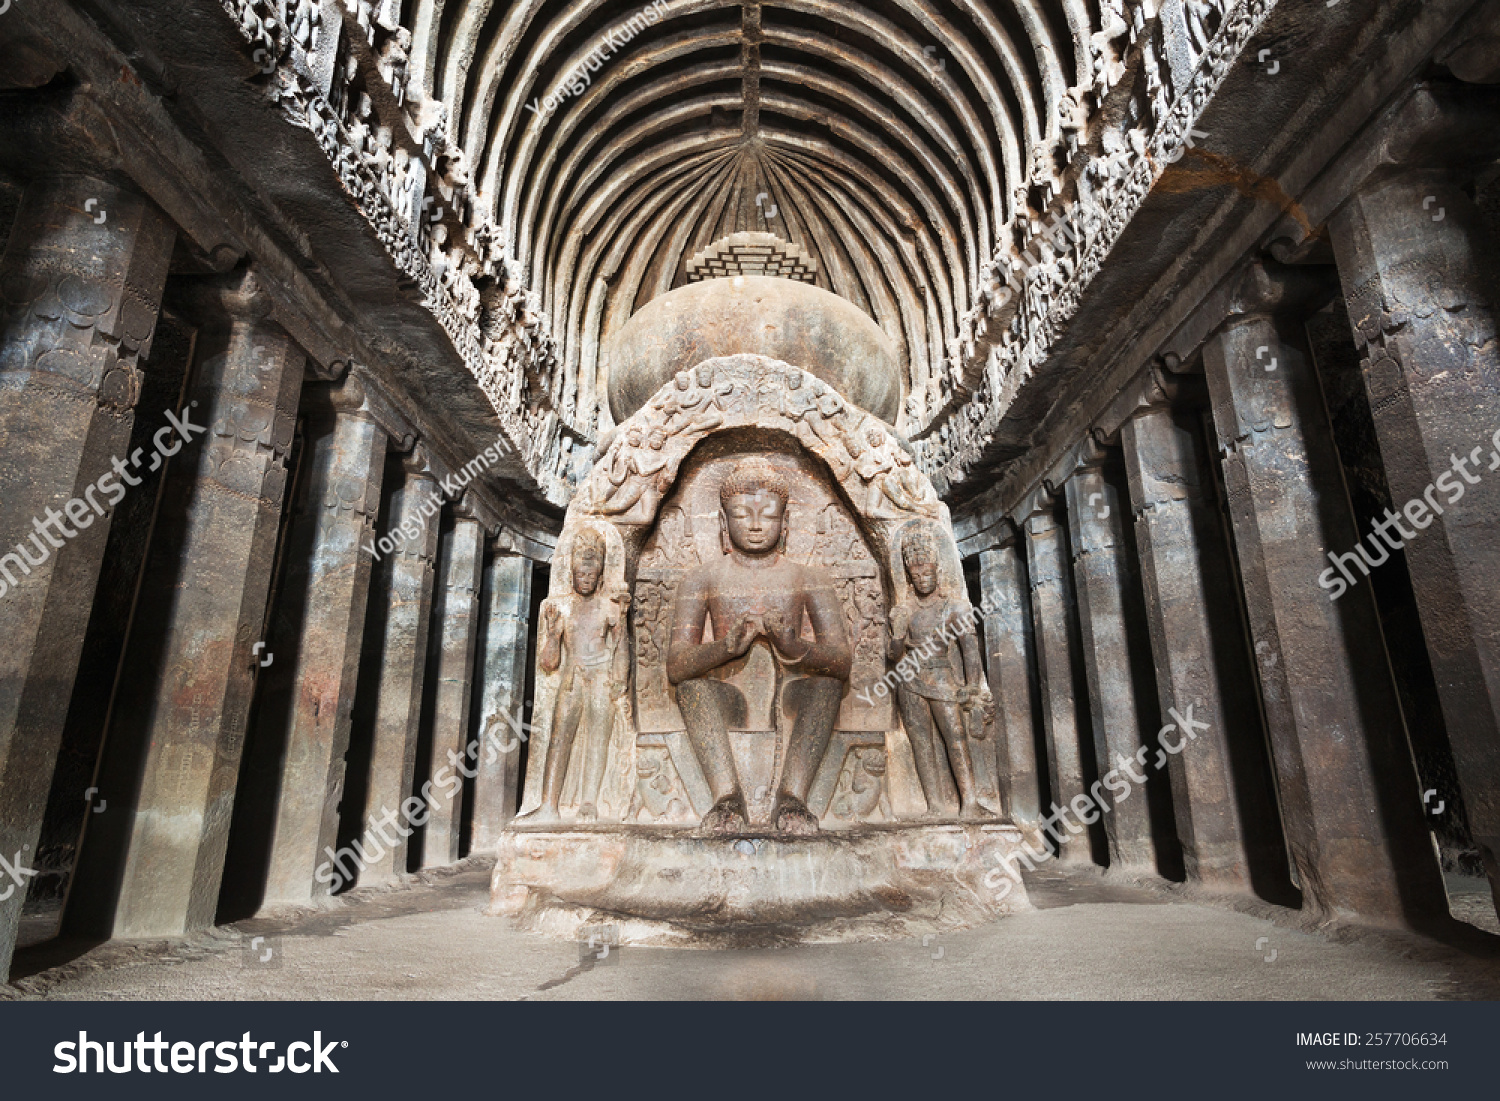Figure of Buddha, Ellora: (7, 9, 1476, 988)
